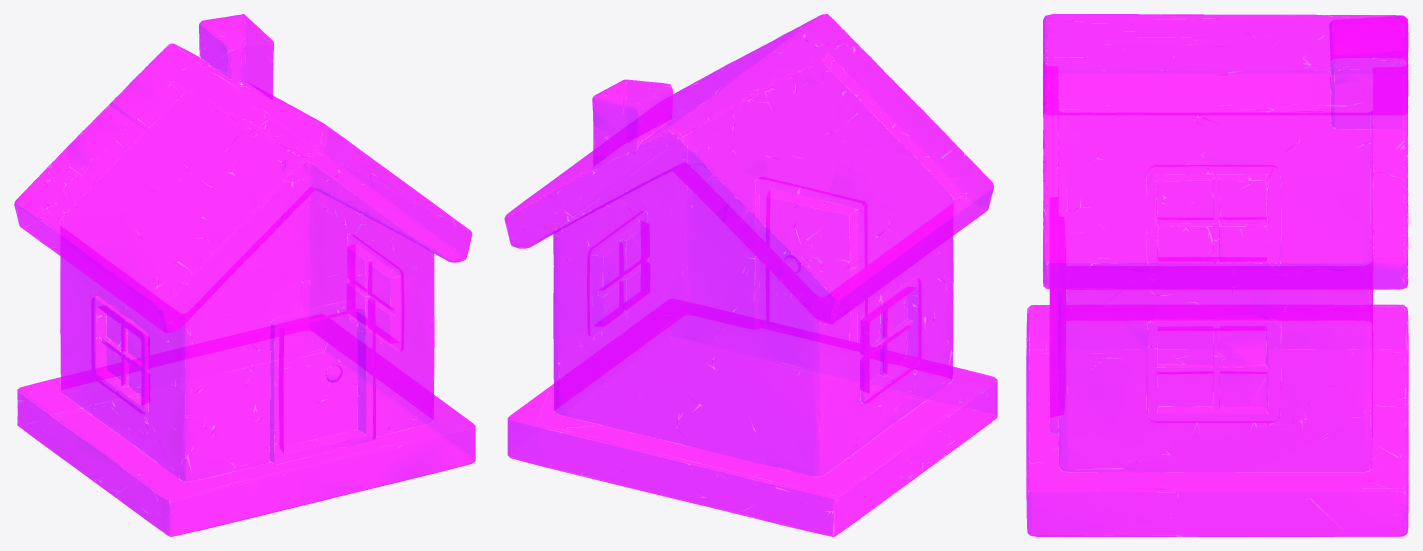
The model's file is hous-purple.glb.
The picture shows the model from 3 angles, left to right: view 1: azimuth 30°, elevation 25°; view 2: azimuth 150°, elevation 25°; view 3: azimuth 270°, elevation 25°; orthographic projection. The views are drawn at different scales.
Parts seen in each view (by area): view 1: model; view 2: model; view 3: model.
Part boxes in pixels (x1,y1,x2,y2): model: [14, 14, 475, 536]; model: [504, 14, 997, 536]; model: [1026, 14, 1408, 536].
Size of the model in its own units: 1.56 by 1.71 by 1.32.
